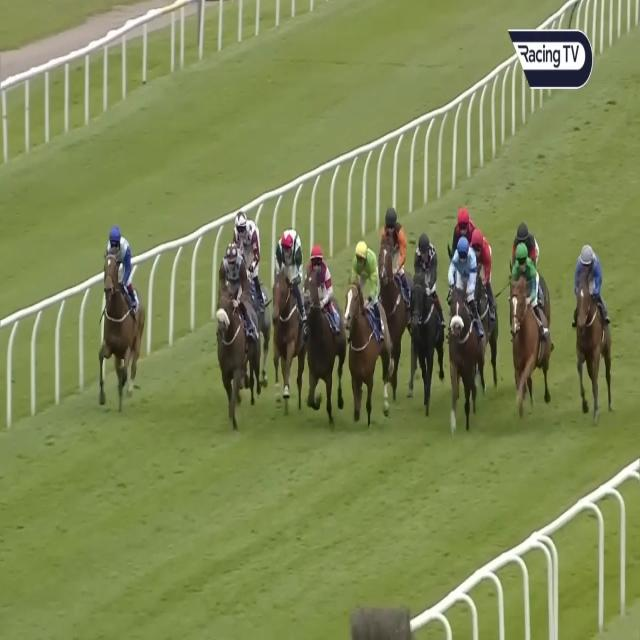horses-racing: (503, 250, 557, 401), (570, 241, 613, 417), (215, 238, 254, 411), (445, 238, 482, 414), (269, 223, 305, 395), (104, 222, 138, 399), (304, 244, 340, 403), (346, 241, 380, 406), (379, 206, 409, 382), (233, 213, 275, 332), (412, 231, 439, 415), (470, 228, 496, 356), (512, 214, 541, 283), (452, 208, 480, 259)
